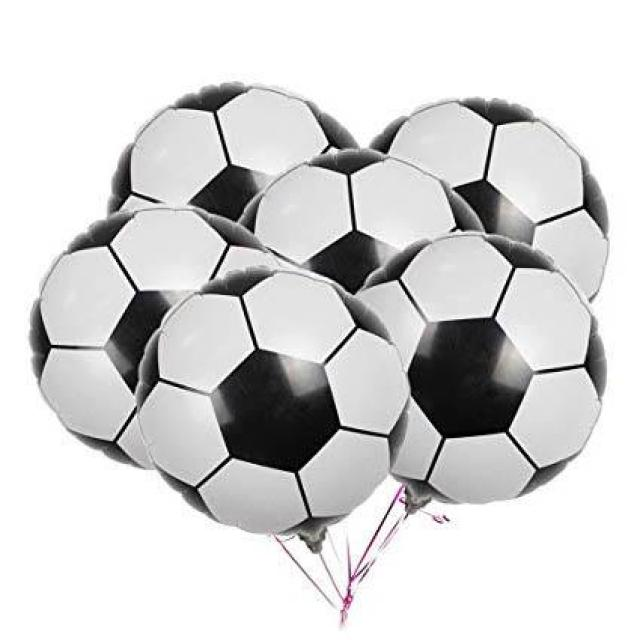Soccer Ball: (139, 270, 411, 534)
